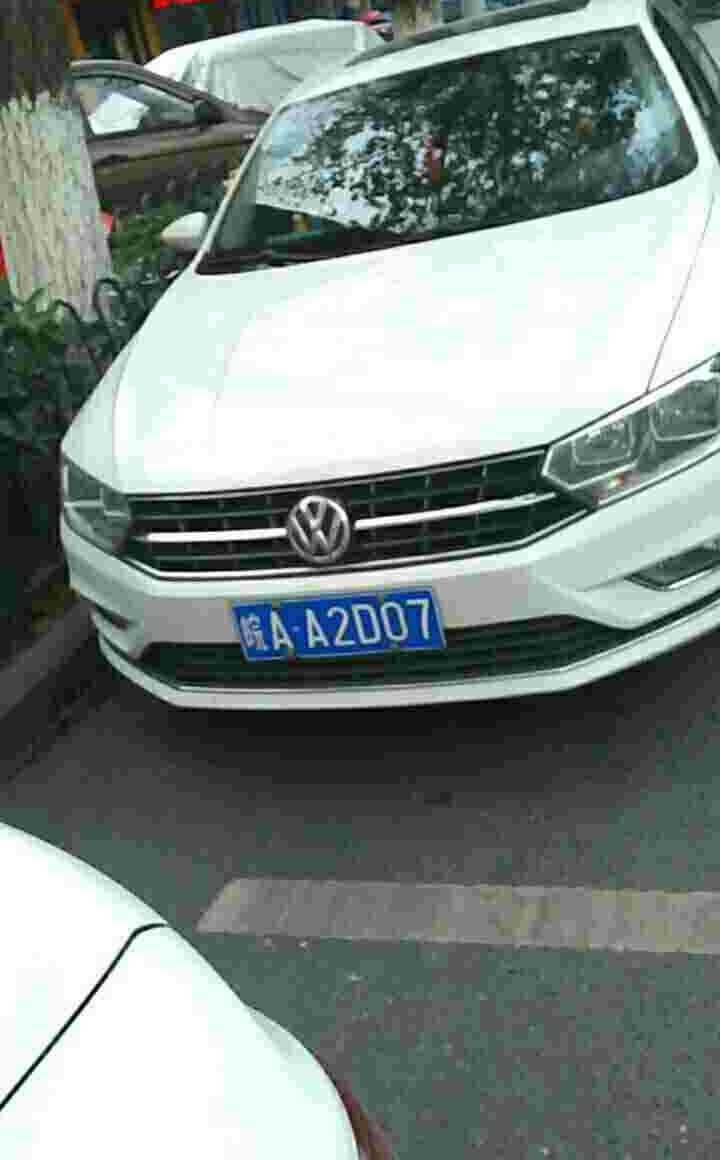license_plate: (232, 583, 443, 666)
